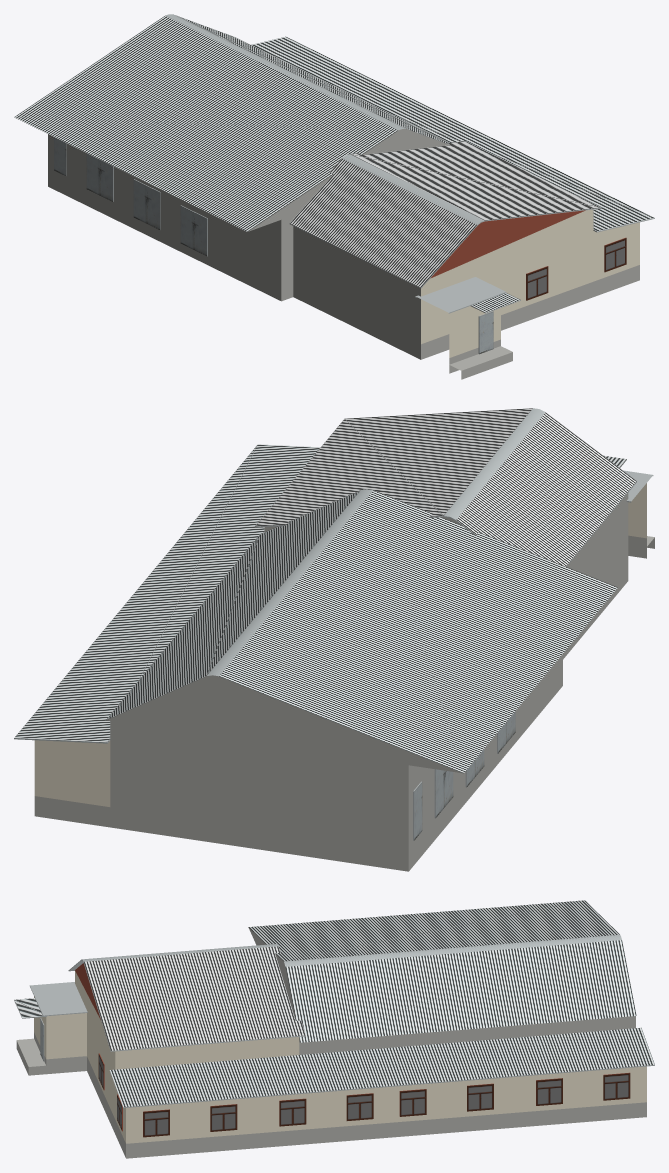
3 renders of one model, top to bottom at view 1: azimuth 30°, elevation 25°; view 2: azimuth 150°, elevation 25°; view 3: azimuth 270°, elevation 25°, orthographic. The views are drawn at different scales.
Parts seen in each view (by area): view 1: 01020-50@110489; view 2: 01020-50@110489; view 3: 01020-50@110489.
Part boxes in pixels (x1,y1,x2,y2): 01020-50@110489: [14, 14, 654, 379]; 01020-50@110489: [14, 408, 654, 871]; 01020-50@110489: [14, 900, 654, 1158].
Bounding box in the file's own units: 23.56 × 7.24 × 34.22.
1 material, 1 textured.
